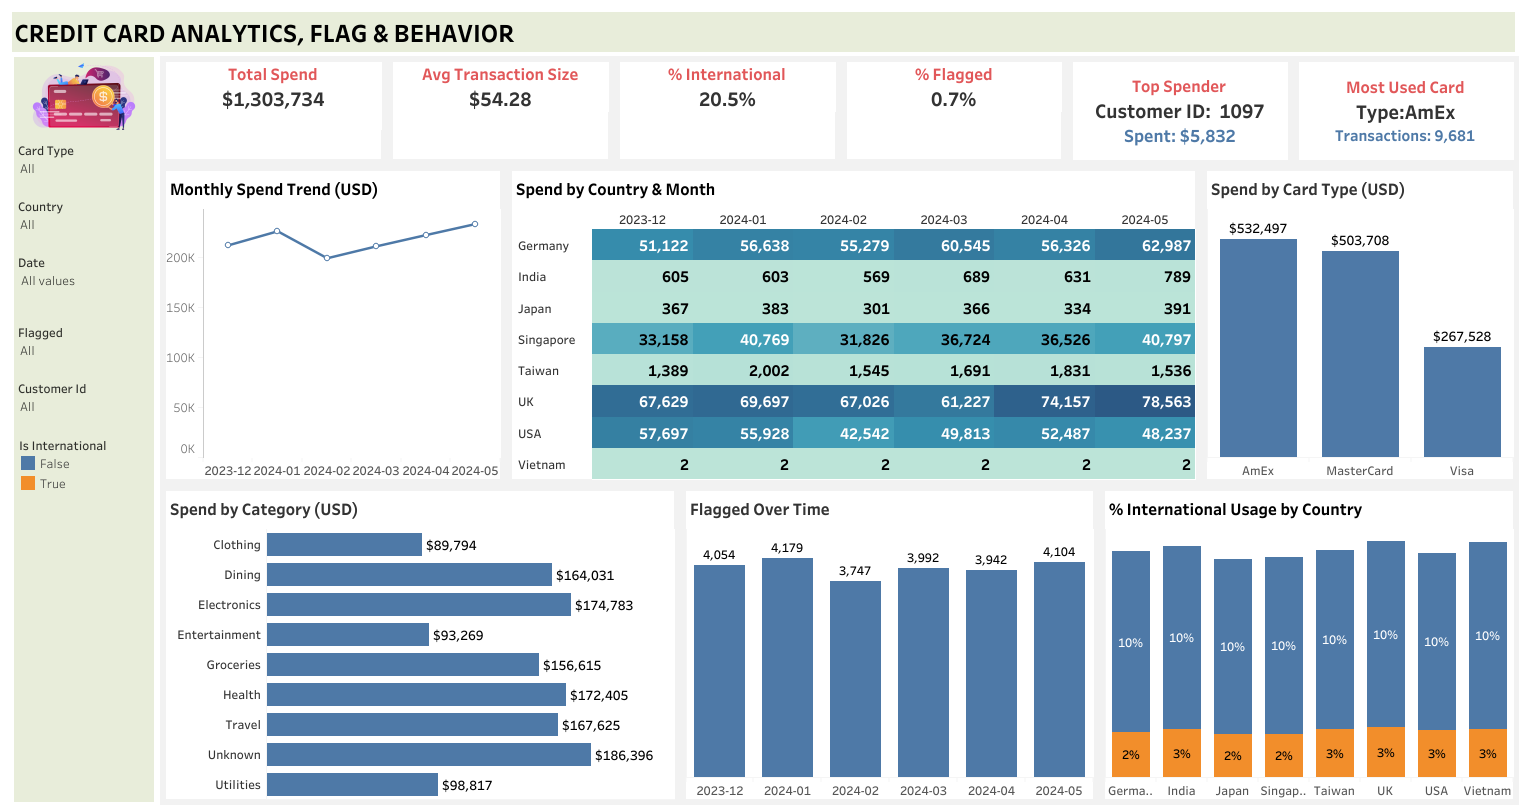

This screenshot's page, from the dashboard's own definition file:
{"tool":"tableau","page":{"name":"Dashboard 1","canvas":[1000,1000],"units":"permille","ordinal":0},"visuals":[{"type":"title","box":[4.2,9.8,991.5,58.6]},{"type":"worksheet","title":"Total Spend","mark":"Automatic","box":[103.8,68.4,148.8,134.3]},{"type":"worksheet","title":"Avg transaction size","mark":"Automatic","box":[252.7,68.4,148.8,134.3]},{"type":"worksheet","title":"% International","mark":"Automatic","box":[401.5,68.4,148.8,134.3]},{"type":"worksheet","title":"KPI – % Flagged","mark":"Automatic","box":[550.3,68.4,148.8,134.3]},{"type":"worksheet","title":"Top Spender","mark":"Text","box":[699.1,68.4,148.3,134.3]},{"type":"worksheet","title":"KPI – Most Used Card","mark":"Text","box":[847.5,68.4,148.3,134.3]},{"type":"image","param":"Image/credi-card-an-1.png","box":[7.4,69.6,93.3,92]},{"type":"filter","title":"Monthly Spend Over Time","param":"[federated.0u7xz080qzlwrk1d0k7wj10q6eof].[none:card_type:nk]","box":[7.4,161.6,93.3,74.5]},{"type":"worksheet","title":"Monthly Spend Over Time","mark":"Line","rows":["amount_usd","amount_usd"],"cols":["year_month"],"box":[103.9,202.7,355.2,393.8]},{"type":"worksheet","title":"Spend by Country & Month","mark":"Square","rows":["country"],"cols":["year_month"],"box":[459.2,202.7,368.1,393.8]},{"type":"worksheet","title":"Spend by Card Type","mark":"Bar","rows":["amount_usd"],"cols":["card_type"],"box":[827.3,202.7,168.4,393.8]},{"type":"filter","title":"Monthly Spend Over Time","param":"[federated.0u7xz080qzlwrk1d0k7wj10q6eof].[none:country:nk]","box":[7.4,236.1,93.3,74.5]},{"type":"filter","title":"Monthly Spend Over Time","param":"[federated.0u7xz080qzlwrk1d0k7wj10q6eof].[none:date:qk]","box":[7.4,310.5,93.3,89.1]},{"type":"filter","title":"Monthly Spend Over Time","param":"[federated.0u7xz080qzlwrk1d0k7wj10q6eof].[none:flagged:nk]","box":[7.4,399.7,93.3,74.5]},{"type":"filter","title":"Monthly Spend Over Time","param":"[federated.0u7xz080qzlwrk1d0k7wj10q6eof].[none:customer_id:ok]","box":[7.4,474.2,93.3,74.5]},{"type":"legend","title":"% International Usage by Country","param":"[federated.0u7xz080qzlwrk1d0k7wj10q6eof].[none:is_international:nk]","box":[7.4,548.6,93.3,87.9]},{"type":"worksheet","title":"Spend by Category","mark":"Bar","rows":["category"],"cols":["amount_usd"],"box":[103.9,596.5,275.4,393.8]},{"type":"worksheet","title":"Flagged Over Time","mark":"Automatic","rows":["transaction_id"],"cols":["year_month"],"box":[379.4,596.5,221.9,393.8]},{"type":"worksheet","title":"% International Usage by Country","mark":"Automatic","rows":["transaction_id"],"cols":["country"],"box":[601.3,596.5,394.5,393.8]},{"type":"blank","box":[7.4,636.6,93.3,70]},{"type":"blank","box":[7.4,706.6,93.3,70]},{"type":"blank","box":[7.4,776.6,93.3,70]},{"type":"blank","box":[7.4,846.6,93.3,70]},{"type":"blank","box":[7.4,916.6,93.3,70]}]}

Visuals, with their boxes on the dashboard's canvas, which has no fixed pixel size, in thousandths of its width and height (x1, y1, x2, y2). These are canvas units, not pixel positions in the 1526x812 screenshot, which may show the page scaled, cropped or inside an application window:
title: rect(4, 10, 996, 68)
"Total Spend" worksheet: rect(104, 68, 253, 203)
"Avg transaction size" worksheet: rect(253, 68, 402, 203)
"% International" worksheet: rect(402, 68, 550, 203)
"KPI – % Flagged" worksheet: rect(550, 68, 699, 203)
"Top Spender" worksheet (Text marks): rect(699, 68, 847, 203)
"KPI – Most Used Card" worksheet (Text marks): rect(848, 68, 996, 203)
image: rect(7, 70, 101, 162)
"Monthly Spend Over Time" filter: rect(7, 162, 101, 236)
"Monthly Spend Over Time" worksheet (Line marks): rect(104, 203, 459, 596)
"Spend by Country & Month" worksheet (Square marks): rect(459, 203, 827, 596)
"Spend by Card Type" worksheet (Bar marks): rect(827, 203, 996, 596)
"Monthly Spend Over Time" filter: rect(7, 236, 101, 311)
"Monthly Spend Over Time" filter: rect(7, 310, 101, 400)
"Monthly Spend Over Time" filter: rect(7, 400, 101, 474)
"Monthly Spend Over Time" filter: rect(7, 474, 101, 549)
"% International Usage by Country" legend: rect(7, 549, 101, 636)
"Spend by Category" worksheet (Bar marks): rect(104, 596, 379, 990)
"Flagged Over Time" worksheet: rect(379, 596, 601, 990)
"% International Usage by Country" worksheet: rect(601, 596, 996, 990)
blank: rect(7, 637, 101, 707)
blank: rect(7, 707, 101, 777)
blank: rect(7, 777, 101, 847)
blank: rect(7, 847, 101, 917)
blank: rect(7, 917, 101, 987)
